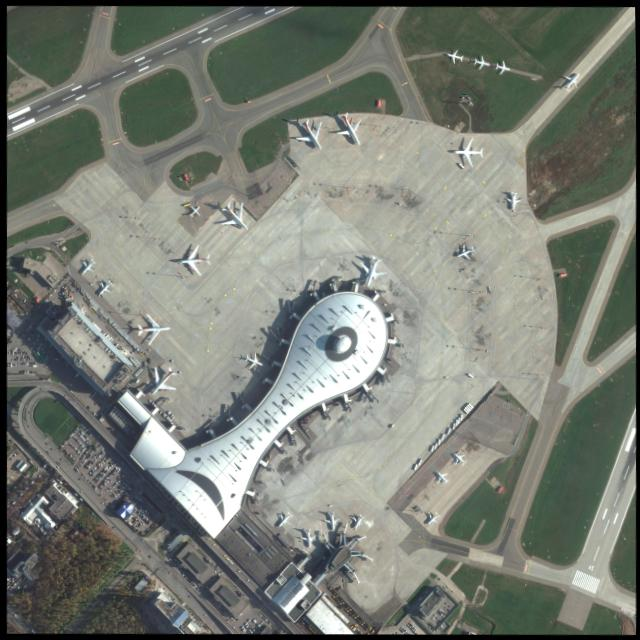large-vehicle: (239, 625, 243, 629), (244, 624, 248, 628), (246, 618, 250, 622), (165, 416, 169, 420), (161, 412, 165, 416), (165, 410, 169, 414), (241, 627, 244, 631), (166, 418, 170, 421), (164, 415, 167, 419), (170, 415, 173, 419), (166, 412, 170, 415), (243, 622, 246, 625), (167, 419, 170, 422), (162, 414, 165, 417), (169, 414, 172, 417)
plane: (139, 359, 183, 405), (213, 194, 257, 240), (329, 105, 371, 152), (290, 112, 331, 157), (354, 252, 389, 292), (134, 312, 171, 346), (174, 244, 210, 277), (451, 137, 482, 167), (557, 67, 584, 94), (452, 241, 476, 264), (272, 508, 294, 532), (242, 350, 264, 373), (92, 277, 115, 299), (76, 256, 98, 278), (420, 508, 442, 530), (347, 511, 367, 533), (448, 447, 468, 469), (322, 511, 341, 532), (298, 527, 316, 549), (431, 468, 451, 487), (184, 201, 203, 220), (444, 47, 463, 65), (505, 191, 520, 211), (472, 54, 489, 71), (494, 59, 509, 75)
small-vehicle: (145, 521, 149, 525), (55, 461, 59, 464), (255, 624, 259, 627), (149, 402, 153, 405), (141, 393, 144, 397), (192, 616, 196, 619), (169, 359, 173, 362), (417, 597, 421, 600), (423, 590, 427, 593), (144, 521, 148, 524), (109, 470, 112, 474), (146, 555, 150, 558), (137, 522, 140, 526), (9, 362, 11, 367), (206, 629, 209, 632), (81, 446, 84, 449), (76, 452, 79, 455), (77, 453, 80, 456), (83, 451, 86, 454), (78, 443, 81, 446), (87, 453, 90, 456), (74, 438, 77, 441), (77, 433, 80, 436), (84, 437, 87, 440), (83, 440, 86, 443), (86, 439, 89, 442), (77, 446, 80, 449), (62, 449, 65, 452), (96, 445, 99, 448), (76, 440, 79, 443), (57, 447, 60, 450), (69, 456, 72, 459), (66, 453, 69, 456), (65, 452, 68, 455), (87, 433, 90, 436), (80, 445, 83, 448), (79, 444, 82, 447), (78, 442, 81, 445), (75, 439, 78, 442), (80, 449, 83, 452), (73, 437, 76, 440), (85, 438, 88, 441), (82, 439, 85, 442), (81, 438, 84, 441), (78, 434, 81, 437), (76, 432, 79, 435), (96, 435, 99, 438), (62, 441, 65, 444), (91, 485, 94, 488), (90, 468, 93, 471), (87, 472, 90, 475), (93, 487, 96, 490), (92, 486, 95, 489), (90, 484, 93, 487), (80, 473, 83, 476), (87, 464, 90, 467), (89, 462, 92, 465), (103, 455, 106, 458), (95, 467, 98, 470), (97, 465, 100, 468), (95, 463, 98, 466), (93, 465, 96, 468), (86, 461, 89, 464), (86, 460, 89, 463), (102, 456, 105, 459), (96, 462, 99, 465), (97, 454, 100, 457), (92, 467, 95, 470), (82, 459, 85, 462), (94, 456, 97, 459), (98, 452, 101, 455), (98, 476, 101, 479), (105, 480, 108, 483), (103, 466, 106, 469), (104, 465, 107, 468), (26, 344, 29, 347), (27, 345, 30, 348), (28, 346, 31, 349), (88, 395, 91, 398), (69, 433, 72, 436), (70, 432, 73, 435), (74, 427, 77, 430), (79, 490, 82, 493), (99, 412, 102, 415), (92, 412, 95, 415), (42, 474, 45, 477), (321, 556, 324, 559), (254, 626, 257, 629), (266, 621, 269, 624), (41, 543, 44, 546), (36, 524, 39, 527), (34, 538, 37, 541), (32, 520, 35, 523), (262, 617, 265, 620), (223, 612, 226, 615), (202, 613, 205, 616), (191, 584, 194, 587), (261, 616, 264, 619), (253, 617, 256, 620), (443, 606, 446, 609), (446, 609, 449, 612), (110, 470, 113, 473), (158, 411, 161, 414), (147, 399, 150, 402), (399, 630, 402, 633), (398, 629, 401, 632), (195, 622, 198, 625), (193, 620, 196, 623), (197, 620, 200, 623), (195, 618, 198, 621), (188, 615, 191, 618), (126, 382, 129, 385), (177, 370, 180, 373), (427, 625, 430, 628), (430, 616, 433, 619), (439, 609, 442, 612), (400, 627, 403, 630), (408, 624, 411, 627), (407, 626, 410, 629), (409, 628, 412, 631), (410, 629, 413, 632), (106, 456, 109, 459), (100, 473, 103, 476), (97, 477, 100, 480), (101, 472, 104, 475), (110, 505, 113, 508), (143, 520, 146, 523), (141, 518, 144, 521), (141, 517, 144, 520), (145, 528, 148, 531), (123, 491, 126, 494), (99, 470, 102, 473), (100, 469, 103, 472), (102, 471, 105, 474), (101, 483, 104, 486), (100, 480, 103, 483), (99, 482, 102, 485), (98, 483, 101, 486), (105, 475, 108, 478), (104, 469, 107, 472), (111, 495, 114, 498), (115, 492, 118, 495), (212, 570, 215, 573), (216, 573, 219, 576), (199, 541, 202, 544), (178, 565, 181, 568), (199, 584, 202, 587), (208, 582, 211, 585), (211, 579, 214, 582), (192, 533, 195, 536), (134, 529, 137, 532), (128, 523, 131, 526), (127, 522, 130, 525), (140, 539, 143, 542), (136, 524, 139, 527), (133, 528, 136, 531), (140, 478, 143, 481), (145, 485, 148, 488), (45, 297, 49, 299), (25, 369, 27, 373), (78, 457, 81, 459), (80, 455, 83, 457), (82, 452, 85, 454), (85, 449, 88, 451), (79, 431, 81, 434), (69, 443, 71, 446), (97, 444, 100, 446), (67, 436, 70, 438), (85, 449, 87, 452), (82, 435, 85, 437), (74, 428, 76, 431), (64, 439, 67, 441), (58, 446, 60, 449), (59, 445, 61, 448), (68, 454, 70, 457), (64, 451, 67, 453), (86, 432, 89, 434), (84, 450, 86, 453), (80, 448, 82, 451), (77, 441, 79, 444), (81, 454, 84, 456), (75, 450, 78, 452), (71, 457, 73, 460), (69, 455, 71, 458), (72, 446, 74, 449), (71, 445, 73, 448), (70, 444, 72, 447), (68, 442, 70, 445), (80, 433, 83, 435), (88, 446, 91, 448), (81, 437, 83, 440), (79, 435, 81, 438), (86, 455, 89, 457), (89, 474, 91, 477), (90, 469, 92, 472), (89, 470, 91, 473), (85, 456, 88, 458), (85, 479, 88, 481), (83, 477, 86, 479), (82, 476, 85, 478), (86, 465, 88, 468), (90, 461, 93, 463), (91, 472, 93, 475), (93, 470, 96, 472), (114, 466, 116, 469), (121, 474, 123, 477), (120, 461, 122, 464), (117, 468, 119, 471), (115, 465, 117, 468), (108, 465, 111, 467), (105, 454, 107, 457), (97, 461, 100, 463), (96, 466, 99, 468), (95, 464, 97, 467), (85, 463, 88, 465), (100, 448, 102, 451), (101, 450, 103, 453), (96, 455, 99, 457), (92, 455, 94, 458), (91, 457, 93, 460), (93, 466, 95, 469), (88, 471, 90, 474), (83, 458, 86, 460), (102, 457, 104, 460), (87, 460, 90, 462), (109, 464, 112, 466), (92, 459, 95, 461), (93, 458, 96, 460), (109, 480, 111, 483), (102, 468, 104, 471), (103, 467, 105, 470), (105, 468, 108, 470), (60, 444, 62, 447), (63, 440, 66, 442), (203, 627, 206, 629), (39, 348, 42, 350), (38, 343, 40, 346), (39, 342, 42, 344), (34, 339, 37, 341), (27, 326, 29, 329), (28, 325, 30, 328), (26, 334, 29, 336), (41, 351, 43, 354), (44, 355, 47, 357), (43, 338, 46, 340), (29, 347, 32, 349), (35, 348, 37, 351), (30, 348, 33, 350), (25, 328, 27, 331), (23, 321, 25, 324), (57, 293, 60, 295), (62, 278, 64, 281), (19, 349, 21, 352), (16, 351, 18, 354), (68, 435, 71, 437), (90, 394, 92, 397), (63, 395, 66, 397), (68, 383, 70, 386), (90, 394, 93, 396), (91, 393, 94, 395), (72, 430, 74, 433), (73, 429, 75, 432), (76, 426, 78, 429), (55, 466, 58, 468), (27, 357, 29, 360), (21, 362, 23, 365), (13, 363, 15, 366), (12, 349, 14, 352), (19, 351, 21, 354), (13, 358, 15, 361), (13, 347, 16, 349), (23, 370, 25, 373), (21, 357, 23, 360), (113, 467, 115, 470), (112, 468, 114, 471), (111, 469, 113, 472), (30, 474, 33, 476), (8, 458, 11, 460), (446, 608, 448, 611), (288, 549, 291, 551), (249, 597, 251, 600), (267, 602, 270, 604), (265, 620, 268, 622), (18, 496, 20, 499), (443, 602, 446, 604), (442, 585, 444, 588), (51, 534, 53, 537), (45, 535, 47, 538), (33, 531, 35, 534), (32, 530, 34, 533), (26, 487, 28, 490), (263, 618, 266, 620), (222, 611, 225, 613), (196, 588, 198, 591), (193, 586, 196, 588), (192, 585, 195, 587), (191, 583, 193, 586), (190, 582, 192, 585), (189, 581, 191, 584), (187, 579, 189, 582), (231, 619, 234, 621), (260, 615, 262, 618), (258, 614, 261, 616), (257, 613, 260, 615), (258, 622, 260, 625), (259, 621, 261, 624), (253, 618, 255, 621), (148, 400, 150, 403), (438, 608, 440, 611), (140, 393, 143, 395), (31, 339, 33, 342), (30, 340, 32, 343), (354, 623, 356, 626), (400, 631, 403, 633), (201, 625, 204, 627), (197, 625, 200, 627), (200, 622, 202, 625), (190, 613, 193, 615), (187, 611, 190, 613), (125, 384, 127, 387), (125, 376, 128, 378), (405, 632, 408, 634), (404, 631, 407, 633), (412, 631, 415, 633), (437, 622, 439, 625), (431, 629, 433, 632), (437, 612, 440, 614), (439, 613, 441, 616), (441, 615, 443, 618), (441, 613, 444, 615), (440, 612, 443, 614), (440, 610, 442, 613), (411, 631, 414, 633), (403, 630, 406, 632), (403, 629, 405, 632), (401, 628, 404, 630), (399, 626, 402, 628), (412, 627, 414, 630), (411, 626, 413, 629), (410, 625, 412, 628), (186, 578, 188, 581), (104, 458, 107, 460), (105, 457, 108, 459), (95, 479, 98, 481), (99, 475, 102, 477), (99, 475, 101, 478), (94, 481, 97, 483), (93, 477, 95, 480), (93, 477, 96, 479), (95, 475, 98, 477), (96, 474, 98, 477), (98, 472, 100, 475), (101, 461, 103, 464), (143, 519, 145, 522), (140, 517, 143, 519), (147, 527, 149, 530), (157, 512, 159, 515), (149, 505, 152, 507), (100, 502, 103, 504), (101, 480, 104, 482), (100, 481, 102, 484), (97, 484, 100, 486), (103, 478, 106, 480), (104, 477, 106, 480), (105, 476, 107, 479), (106, 475, 109, 477), (108, 488, 111, 490), (103, 470, 106, 472), (111, 473, 114, 475), (119, 484, 122, 486), (121, 485, 123, 488), (117, 475, 119, 478), (117, 478, 120, 480), (117, 479, 119, 482), (116, 480, 118, 483), (114, 482, 117, 484), (114, 482, 116, 485), (113, 483, 115, 486), (133, 518, 135, 521), (132, 519, 134, 522), (217, 572, 219, 575), (218, 572, 221, 574), (229, 562, 232, 564), (225, 558, 228, 560), (224, 557, 227, 559), (211, 543, 214, 545), (197, 539, 200, 541), (211, 571, 214, 573), (208, 574, 210, 577), (189, 529, 191, 532), (213, 577, 215, 580), (175, 566, 178, 568), (173, 558, 175, 561), (173, 563, 175, 566), (171, 561, 173, 564), (167, 572, 170, 574), (209, 599, 212, 601), (205, 586, 208, 588), (191, 536, 194, 538), (131, 520, 133, 523), (132, 528, 135, 530), (129, 524, 131, 527), (138, 550, 141, 552), (135, 548, 137, 551), (180, 520, 182, 523), (172, 512, 174, 515), (170, 510, 172, 513), (162, 503, 165, 505), (159, 499, 161, 502), (156, 495, 158, 498), (154, 493, 156, 496), (149, 492, 151, 495), (147, 490, 149, 493), (75, 449, 77, 451), (81, 434, 83, 436), (86, 442, 88, 444), (74, 448, 76, 450), (83, 436, 85, 438), (86, 431, 88, 433), (72, 436, 74, 438), (76, 451, 78, 453), (73, 447, 75, 449), (82, 448, 84, 450), (85, 430, 87, 432), (80, 425, 82, 427), (87, 440, 89, 442), (80, 432, 82, 434), (88, 447, 90, 449), (87, 443, 89, 445), (85, 441, 87, 443), (80, 436, 82, 438), (73, 437, 75, 439), (90, 473, 92, 475), (92, 472, 94, 474), (93, 471, 95, 473), (110, 463, 112, 465), (94, 469, 96, 471), (100, 459, 102, 461), (99, 464, 101, 466), (84, 464, 86, 466), (87, 465, 89, 467), (85, 457, 87, 459), (108, 466, 110, 468), (93, 454, 95, 456), (99, 452, 101, 454), (100, 451, 102, 453), (99, 472, 101, 474), (107, 467, 109, 469), (32, 342, 34, 344), (40, 347, 42, 349), (35, 338, 37, 340), (26, 338, 28, 340), (27, 337, 29, 339), (30, 334, 32, 336), (32, 329, 34, 331), (14, 352, 16, 354), (31, 349, 33, 351), (32, 350, 34, 352), (50, 301, 52, 303), (48, 303, 50, 305), (89, 283, 91, 285), (49, 292, 53, 293), (58, 283, 60, 285), (67, 275, 69, 277), (53, 358, 57, 359), (44, 358, 46, 360), (92, 392, 94, 394), (93, 391, 95, 393), (88, 434, 90, 436), (84, 429, 86, 431), (82, 427, 84, 429), (81, 426, 83, 428), (79, 424, 81, 426), (101, 394, 103, 396), (21, 355, 23, 357), (44, 466, 46, 468), (36, 467, 38, 469), (10, 457, 12, 459), (349, 536, 351, 538), (22, 492, 24, 494), (447, 605, 449, 607), (445, 585, 447, 587), (50, 536, 52, 538), (30, 529, 32, 531), (29, 528, 31, 530), (29, 527, 31, 529), (264, 619, 266, 621), (237, 570, 239, 572), (230, 618, 232, 620), (229, 617, 231, 619), (228, 616, 230, 618), (198, 591, 200, 593), (246, 579, 248, 581), (248, 629, 250, 631), (247, 630, 249, 632), (246, 631, 248, 633), (243, 629, 245, 631), (260, 620, 262, 622), (257, 612, 259, 614), (191, 618, 193, 620), (398, 628, 400, 630), (437, 578, 439, 580), (432, 618, 434, 620), (433, 614, 435, 616), (438, 613, 440, 615), (413, 628, 415, 630), (411, 630, 413, 632), (402, 629, 404, 631), (408, 623, 410, 625), (407, 622, 409, 624), (405, 624, 407, 626), (407, 625, 409, 627), (409, 628, 411, 630), (185, 577, 187, 579), (95, 480, 97, 482), (95, 476, 97, 478), (97, 473, 99, 475), (104, 459, 106, 461), (104, 503, 106, 505), (140, 516, 142, 518), (152, 522, 154, 524), (155, 511, 157, 513), (128, 487, 130, 489), (127, 488, 129, 490), (108, 489, 110, 491), (99, 491, 101, 493), (103, 483, 105, 485), (103, 479, 105, 481), (108, 472, 110, 474), (105, 489, 107, 491), (111, 485, 113, 487), (115, 470, 117, 472), (113, 495, 115, 497), (124, 484, 126, 486), (122, 482, 124, 484), (210, 573, 212, 575), (219, 571, 221, 573), (226, 560, 230, 561), (198, 545, 200, 547), (196, 537, 198, 539), (176, 561, 178, 563), (169, 559, 171, 561), (168, 558, 170, 560), (132, 527, 134, 529), (131, 526, 133, 528), (130, 525, 132, 527), (126, 521, 128, 523), (149, 525, 151, 527), (130, 521, 132, 523), (148, 517, 150, 519), (188, 532, 190, 534), (184, 531, 186, 533), (176, 517, 178, 519), (161, 501, 163, 503), (152, 492, 154, 494), (150, 490, 152, 492), (152, 496, 154, 498), (148, 488, 150, 490), (36, 334, 37, 337), (21, 349, 22, 352), (30, 324, 31, 327), (18, 348, 19, 351), (44, 300, 47, 301), (21, 333, 22, 336), (47, 295, 50, 296), (46, 296, 49, 297), (51, 291, 54, 292), (52, 290, 55, 291), (54, 288, 57, 289), (38, 388, 41, 389), (42, 362, 45, 363), (28, 410, 29, 413), (20, 370, 21, 373), (30, 371, 31, 374), (31, 361, 32, 364), (33, 361, 34, 364), (29, 357, 30, 360), (15, 363, 16, 366), (11, 358, 12, 361), (15, 349, 16, 352), (11, 349, 12, 352), (23, 351, 24, 354), (22, 351, 23, 354), (18, 363, 19, 366), (24, 362, 25, 365), (25, 362, 26, 365), (23, 355, 24, 358), (15, 358, 16, 361), (12, 358, 13, 361), (23, 358, 24, 361), (34, 371, 35, 374), (26, 362, 27, 365), (342, 579, 343, 582), (43, 483, 44, 486), (34, 470, 37, 471), (182, 574, 183, 577), (181, 573, 182, 576), (228, 561, 231, 562), (222, 555, 225, 556), (206, 539, 209, 540), (180, 572, 181, 575), (215, 606, 218, 607), (37, 334, 38, 336), (27, 317, 28, 319), (17, 349, 18, 351), (16, 349, 17, 351), (14, 352, 15, 354), (12, 352, 13, 354), (10, 349, 11, 351), (10, 352, 11, 354), (9, 352, 10, 354), (49, 294, 51, 295), (18, 352, 19, 354), (30, 362, 31, 364), (34, 362, 35, 364), (26, 355, 27, 357), (30, 358, 31, 360), (26, 358, 27, 360), (24, 358, 25, 360), (17, 363, 18, 365), (14, 349, 15, 351), (11, 352, 12, 354), (8, 352, 9, 354), (24, 352, 25, 354), (25, 352, 26, 354), (21, 352, 22, 354), (24, 356, 25, 358), (20, 358, 21, 360), (19, 358, 20, 360), (18, 358, 19, 360), (16, 358, 17, 360), (17, 358, 18, 360), (32, 481, 33, 483), (18, 506, 20, 507), (197, 589, 198, 591), (184, 576, 185, 578), (177, 563, 178, 565), (127, 522, 129, 523)
